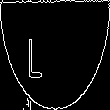L_N: (47, 30, 63, 80)
